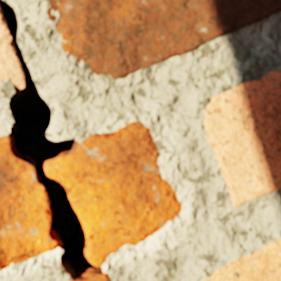brick: (47, 0, 280, 79), (203, 70, 280, 206), (201, 238, 280, 280), (0, 7, 17, 84), (71, 273, 109, 280)
broken_brick: (44, 121, 180, 266), (0, 135, 58, 268)
crack: (0, 1, 102, 278)
